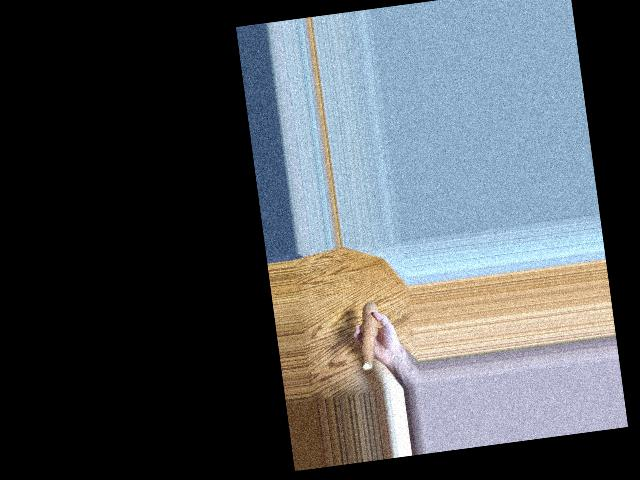sweet_potato: (352, 298, 383, 376)
